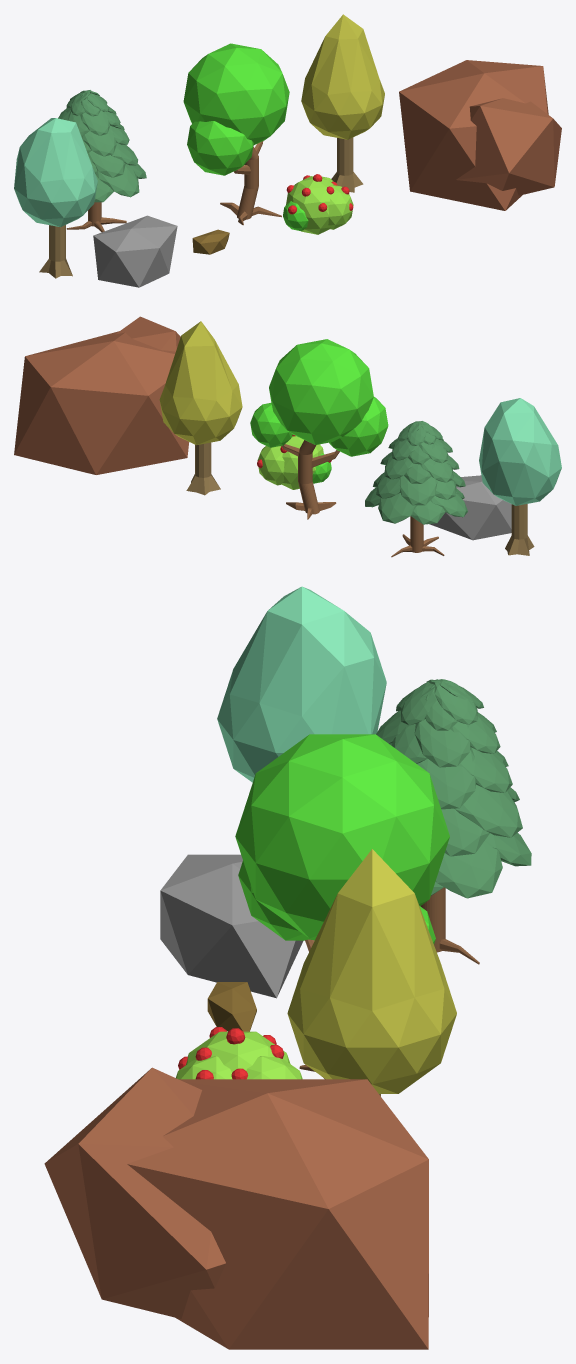
Rendered from forest_asset.fbx.
The picture shows the model from 3 angles, top to bottom: view 1: azimuth 30°, elevation 25°; view 2: azimuth 150°, elevation 25°; view 3: azimuth 270°, elevation 25°; orthographic projection. The views are drawn at different scales.
Visible parts, largest first — view 1: Icosphere.007, Icosphere.001, Icosphere.003, Icosphere.004, Cylinder, Icosphere.005, Icosphere.011, Icosphere.002, Cylinder.001, Cylinder.003, Cylinder.002, Icosphere.009; view 2: Icosphere.007, Icosphere.001, Cylinder, Icosphere.003, Icosphere.004, Icosphere.005, Icosphere.011, Icosphere.002, Cylinder.001, Icosphere, Cylinder.002, Cylinder.003; view 3: Icosphere.007, Icosphere.001, Icosphere.003, Icosphere.004, Cylinder, Icosphere.005, Icosphere.011, Icosphere.009, Icosphere.002.
Boxes of the visible parts, x1,y1,x2,y2 form: Icosphere.007: (399,60,561,210); Icosphere.001: (183,43,289,144); Icosphere.003: (301,14,384,139); Icosphere.004: (14,118,97,227); Cylinder: (58,90,146,232); Icosphere.005: (93,215,177,287); Icosphere.011: (283,176,353,234); Icosphere.002: (187,121,253,175); Cylinder.001: (220,141,281,225); Cylinder.003: (39,225,72,278); Cylinder.002: (331,137,363,192); Icosphere.009: (192,229,229,254); Icosphere.007: (14,316,189,474); Icosphere.001: (269,339,373,444); Cylinder: (365,421,467,557); Icosphere.003: (159,321,242,445); Icosphere.004: (479,398,561,505); Icosphere.005: (429,475,511,540); Icosphere.011: (257,436,331,489); Icosphere.002: (329,397,388,456); Cylinder.001: (282,440,339,519); Icosphere: (250,403,292,447); Cylinder.002: (186,442,220,495); Cylinder.003: (505,504,534,555); Icosphere.007: (44,1067,428,1349); Icosphere.001: (235,734,449,938); Icosphere.003: (287,849,456,1093); Icosphere.004: (217,586,386,782); Cylinder: (376,679,531,964); Icosphere.005: (160,854,303,998); Icosphere.011: (176,1031,302,1079); Icosphere.009: (207,982,256,1031); Icosphere.002: (238,861,315,940).
Bounding box in the file's own units: 2603 × 919 × 1048.
